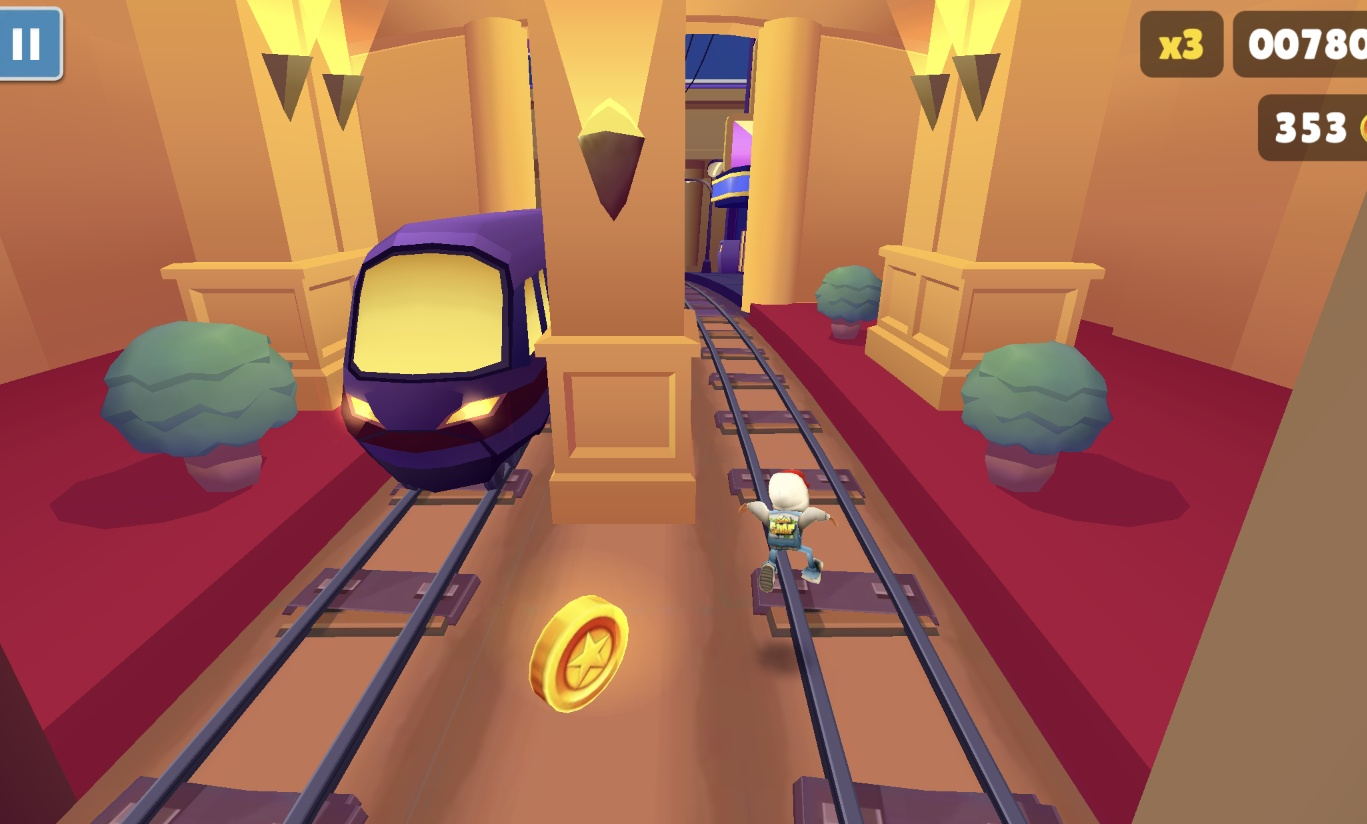pillar: (527, 0, 701, 525)
train: (340, 209, 550, 493)
